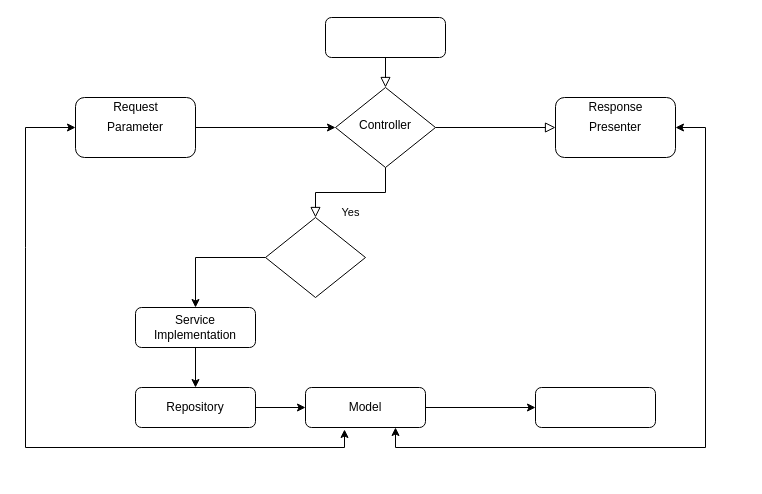
Image size: 762x494. Some labels were removed from this diagram. Here are the shapes that lost their labels. From the top down, the centre of each, then its label:
the point at 385,37: Start App
the point at 315,257: Service
the point at 595,407: Entity
